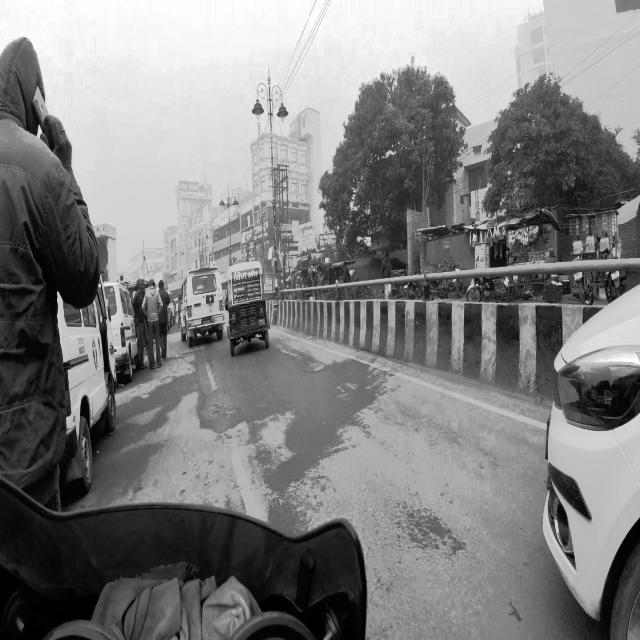Auto-Rickshaw: (226, 259, 272, 358)
Car: (178, 263, 225, 347)
